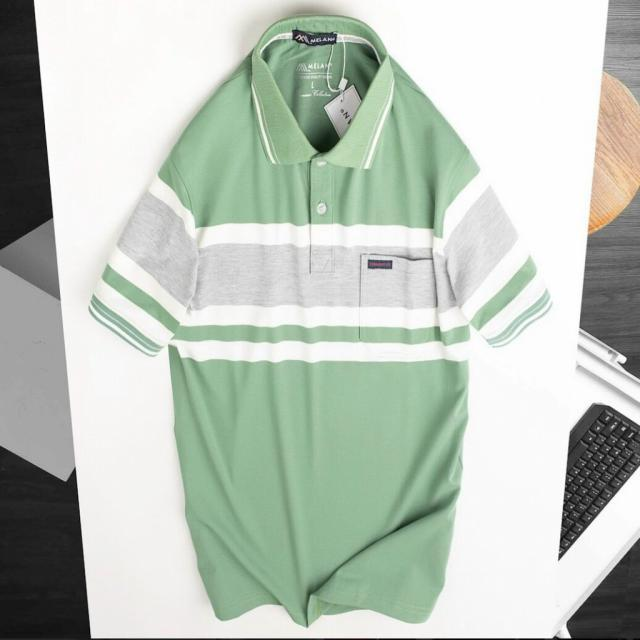Shirt: (91, 17, 554, 628)
